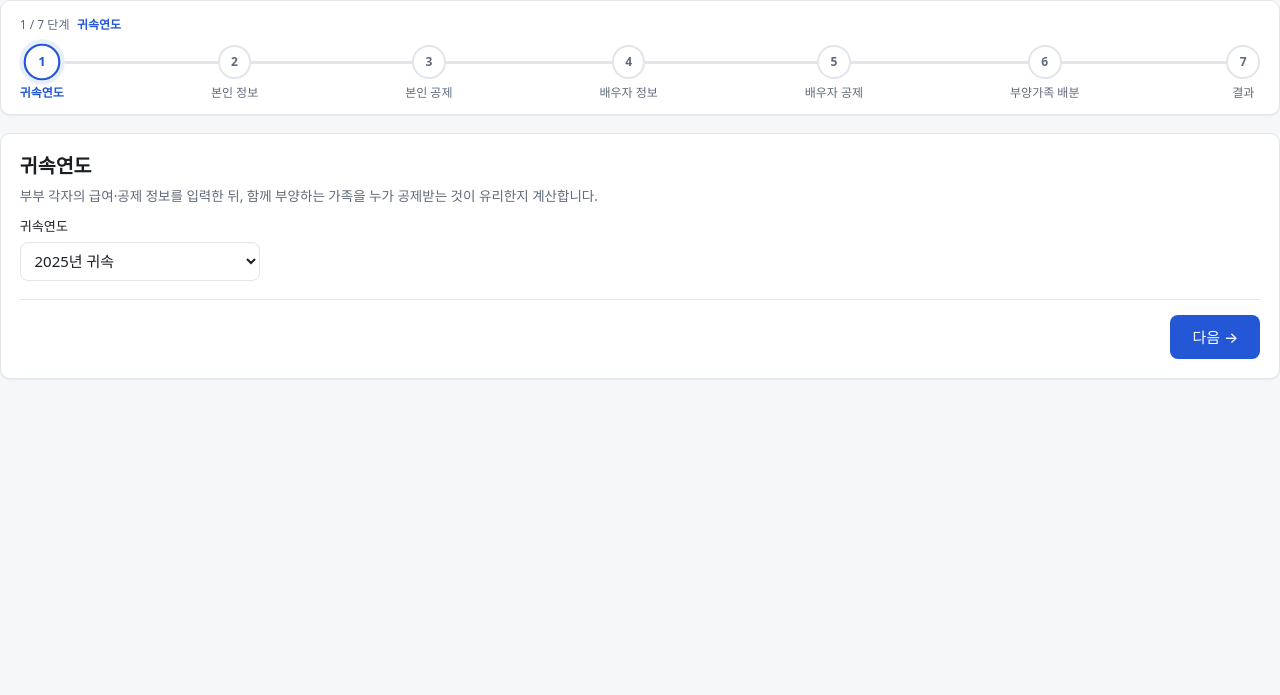
Test: CouplePage › 상단 단계를 눌러 배우자 공제·부양가족 배분 단계로 바로 이동한다
Click the button with aria-label "6단계 부양가족 배분" at (1045, 74), box [1010,45,1080,102]
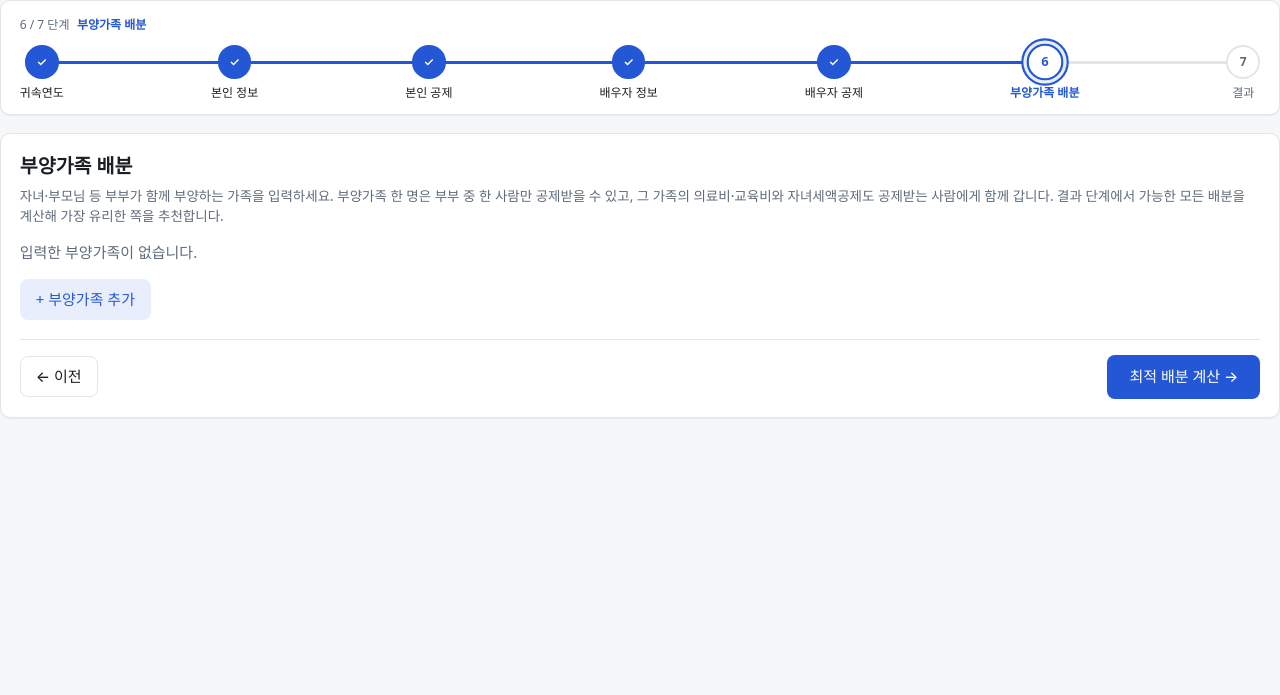
Expected: the heading "부양가족 배분" is shown, [20,152,132,179]
Click the button with aria-label "5단계 배우자 공제 (완료)" at (834, 74), box [805,45,863,102]
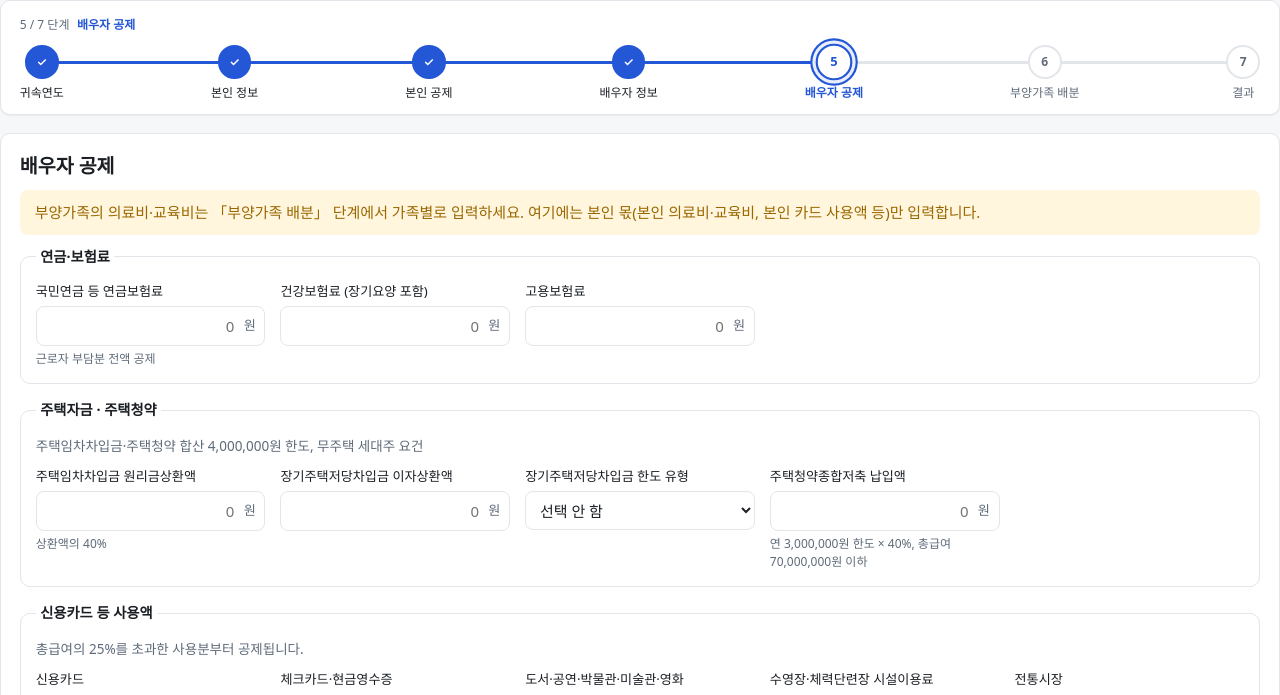
Expected: the heading "배우자 공제" is shown, [20,152,115,179]
Expected: the text "5 / 7 단계" is shown, [20,16,70,34]
